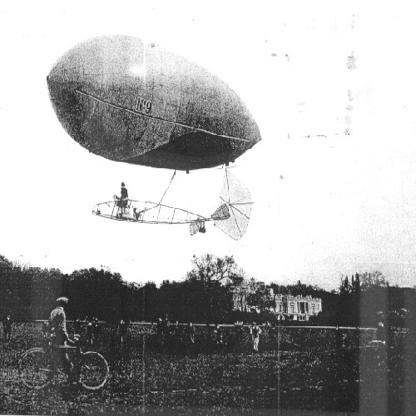Airship: (45, 34, 265, 178)
